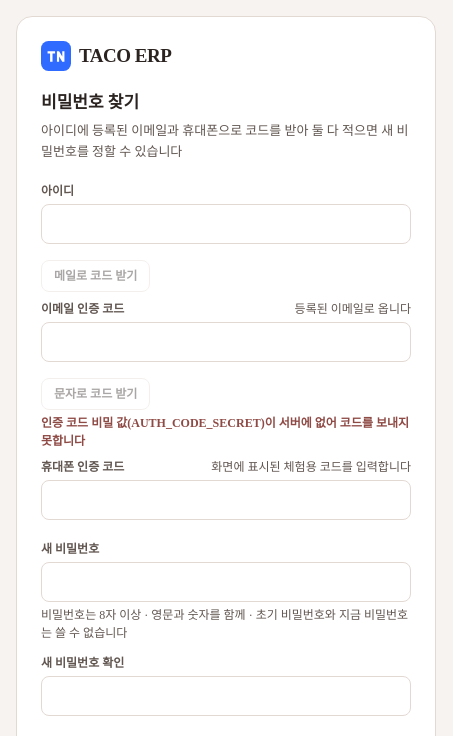
Test: 비밀번호 찾기 화면 › 보낼 수 없는 채널은 서버 까닭으로 잠그고 · 응답에 체험용 코드가 있을 때만 보인다
The image size is (453, 736).
Expected: the text "비밀번호는 8자 이상 · 영문과 숫자를 함께 · 초기 비밀번호와 지금 비밀번호는 쓸 수 없습니다" is shown, [41,606,411,642]
In the field labelled "아이디": point(226, 224) [41,204,411,244], type "kim@tnacademy.kr"
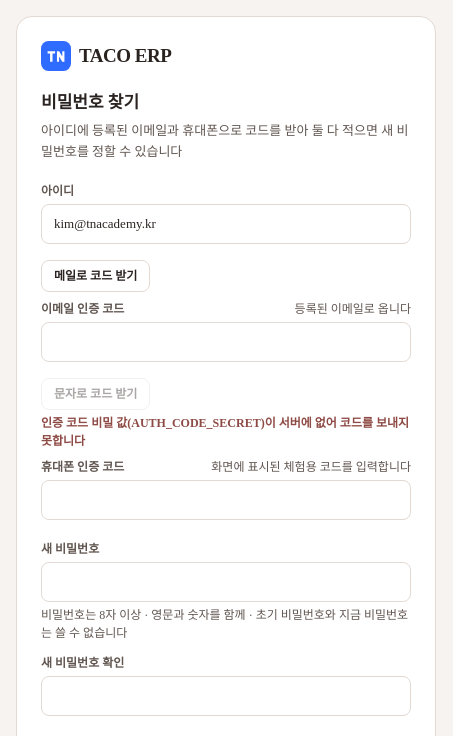
Expected: the button "문자로 코드 받기" is disabled, [41,378,150,410]
Expected: the text "인증 코드 비밀 값(AUTH_CODE_SECRET)이 서버에 없어 코드를 보내지 못합니다" is shown, [41,414,411,450]
Click the button "메일로 코드 받기": point(96, 276) [41,260,150,292]
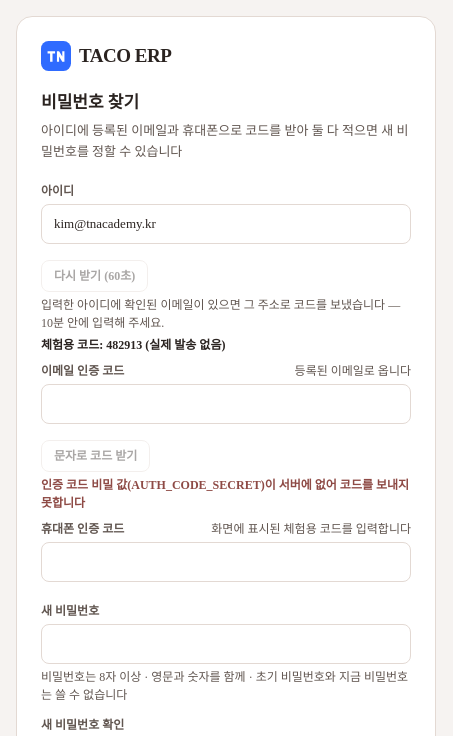
Result: the text "체험용 코드: 482913 (실제 발송 없음)" is shown at [41,338,225,352]
